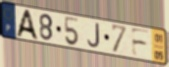5: (63, 15, 80, 47)
7: (111, 23, 129, 55)
8: (38, 12, 54, 42)
A: (14, 8, 40, 42)
F: (130, 27, 151, 58)
J: (87, 22, 102, 49)
